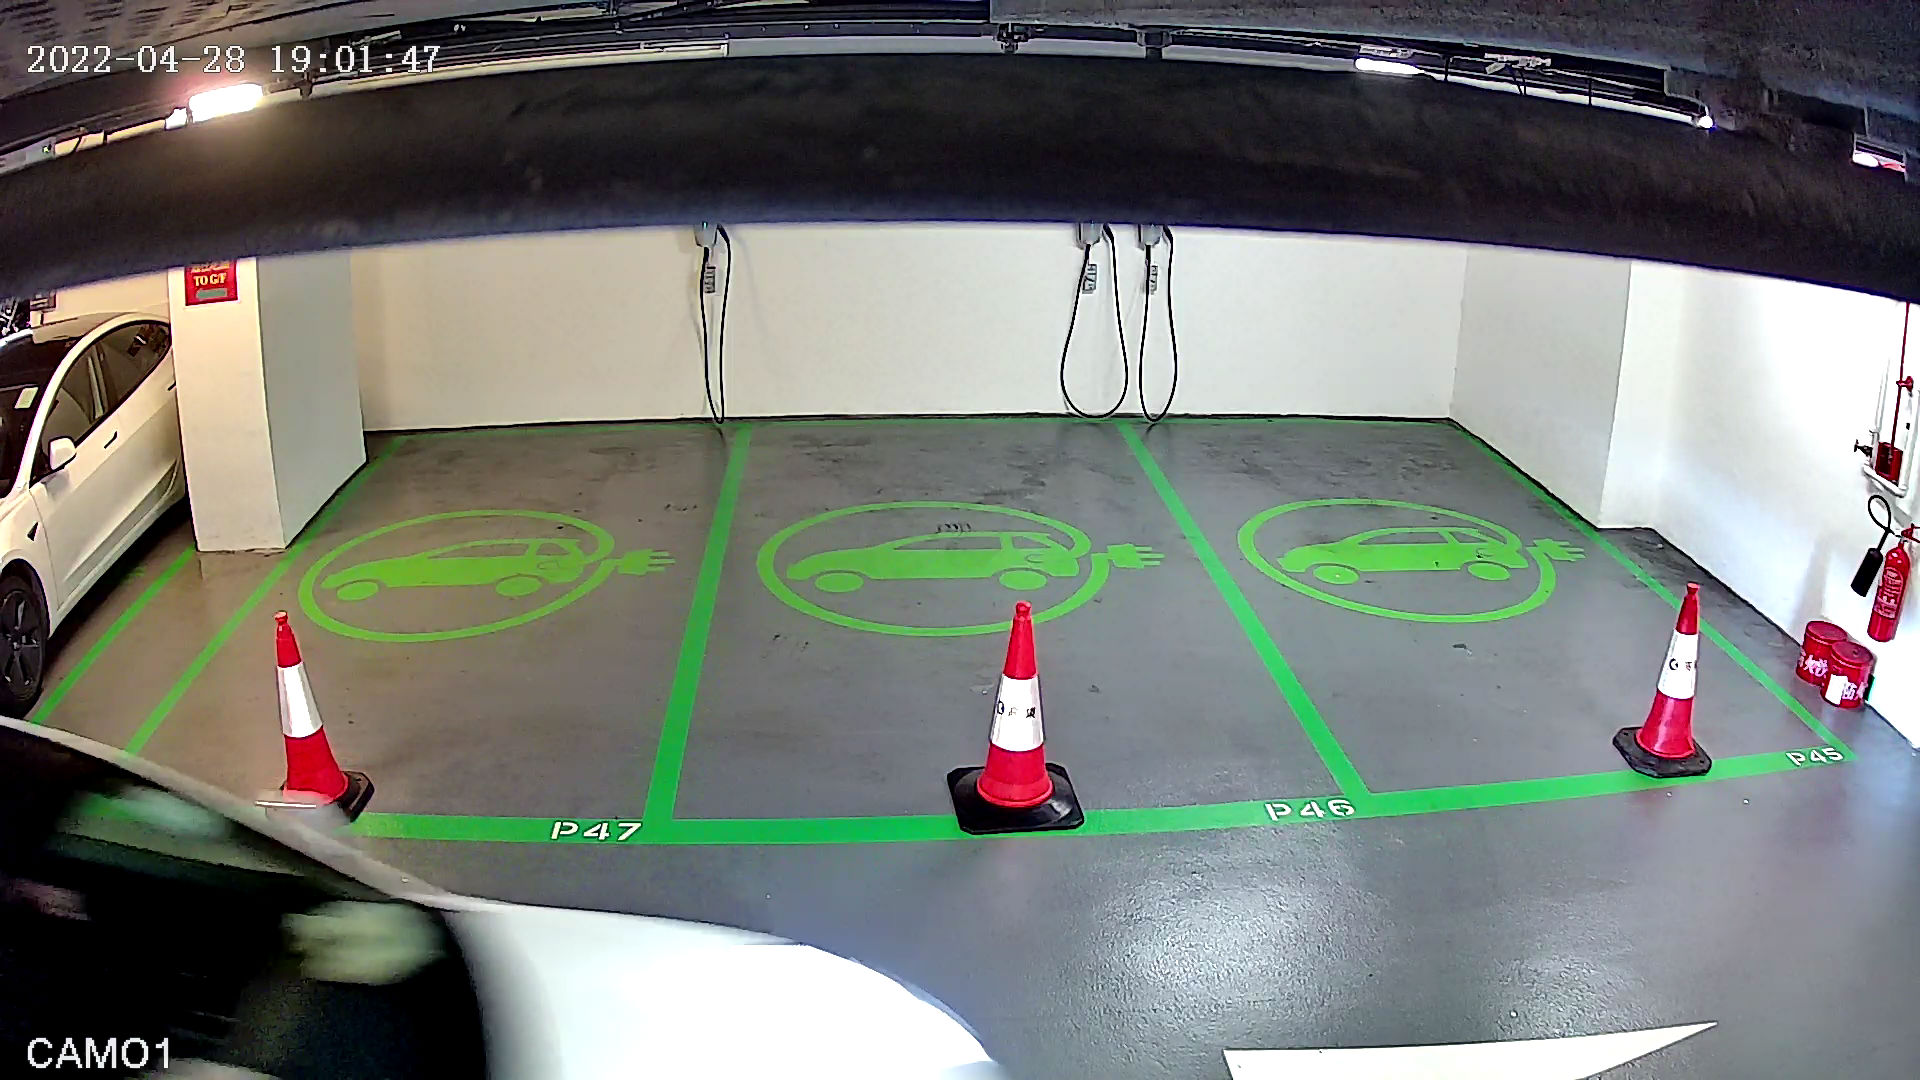space: (618, 359, 1379, 872), (57, 384, 757, 890), (1098, 378, 1873, 828)
